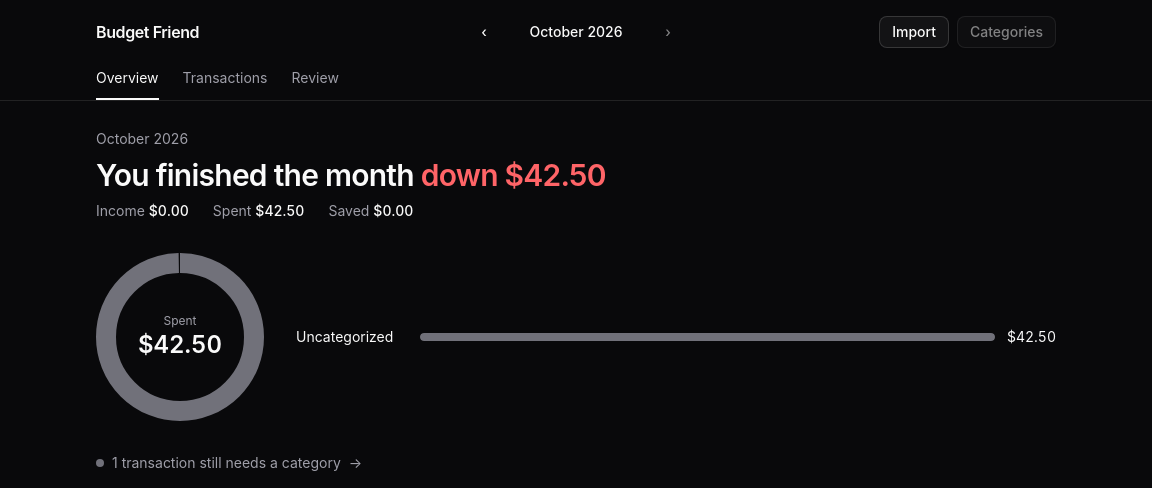
Test: the overview follows the month stepper
Expected: the text "Spent $42.50" next to "Saved" is shown, top-left (255, 202), bottom-right (304, 219)
What coordinates should you click on to do the following:
click the button named "Previous month"
I would click on:
 (484, 32)
Its box is top-left (468, 16), bottom-right (500, 48).
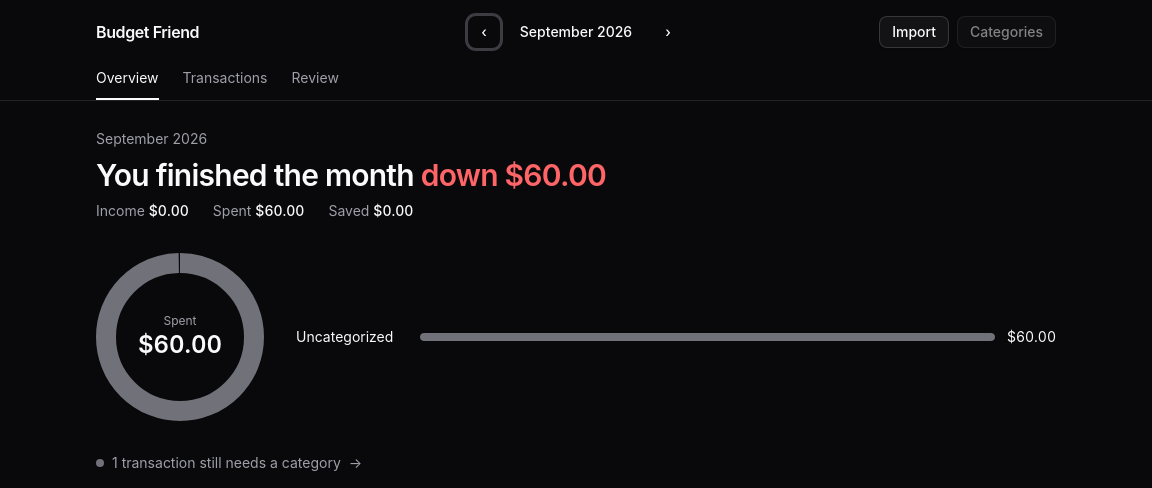
Result: the text "Spent $60.00" next to "Saved" is shown at top-left (255, 202), bottom-right (304, 219)
